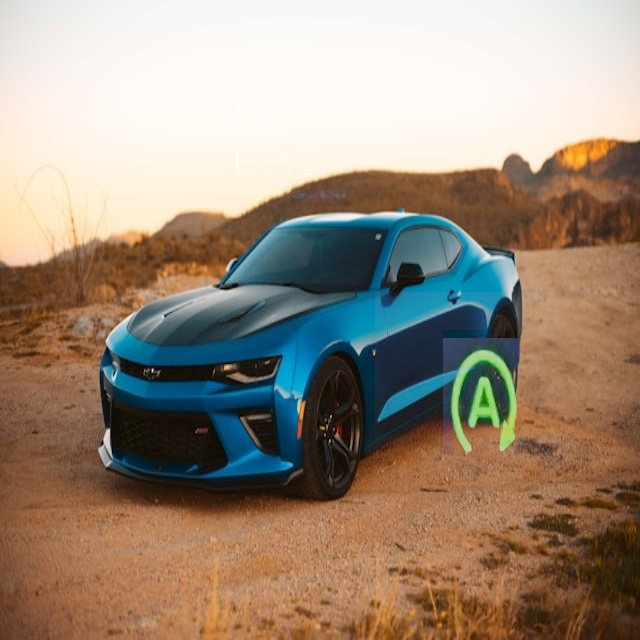symbol: (375, 292, 586, 503), (204, 58, 353, 207)
